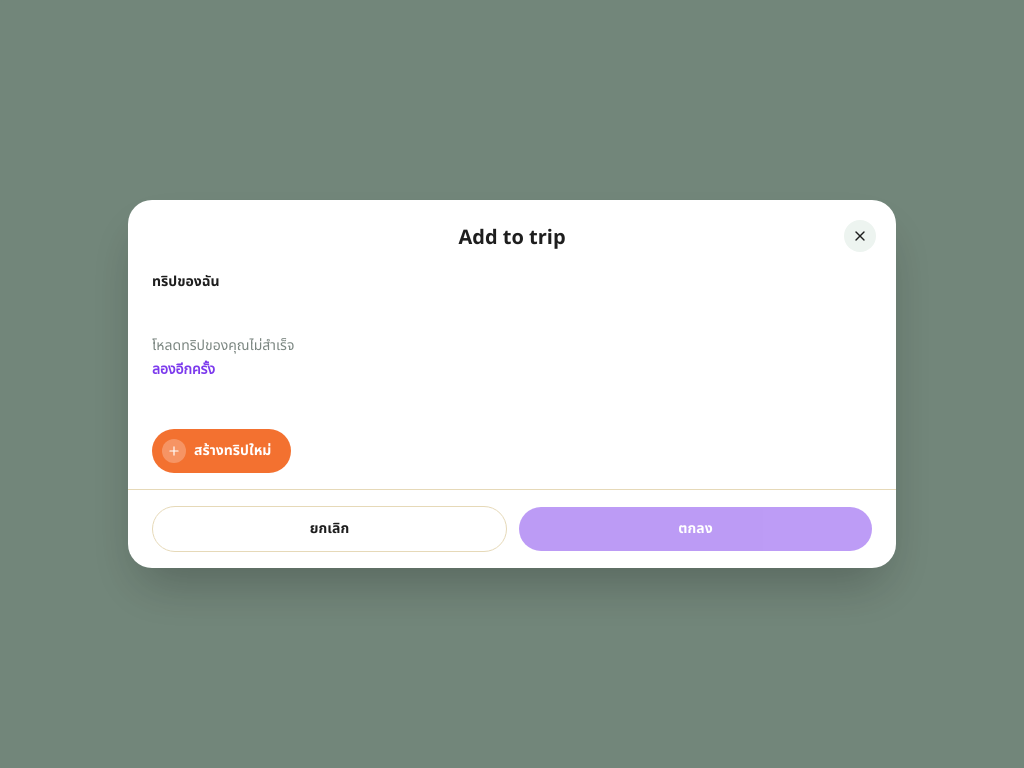
it: AddToTripDialog › offers a retry when My Trips fails to load
Click the button "ลองอีกครั้ง".
click(183, 370)  # box [152,360,215,380]
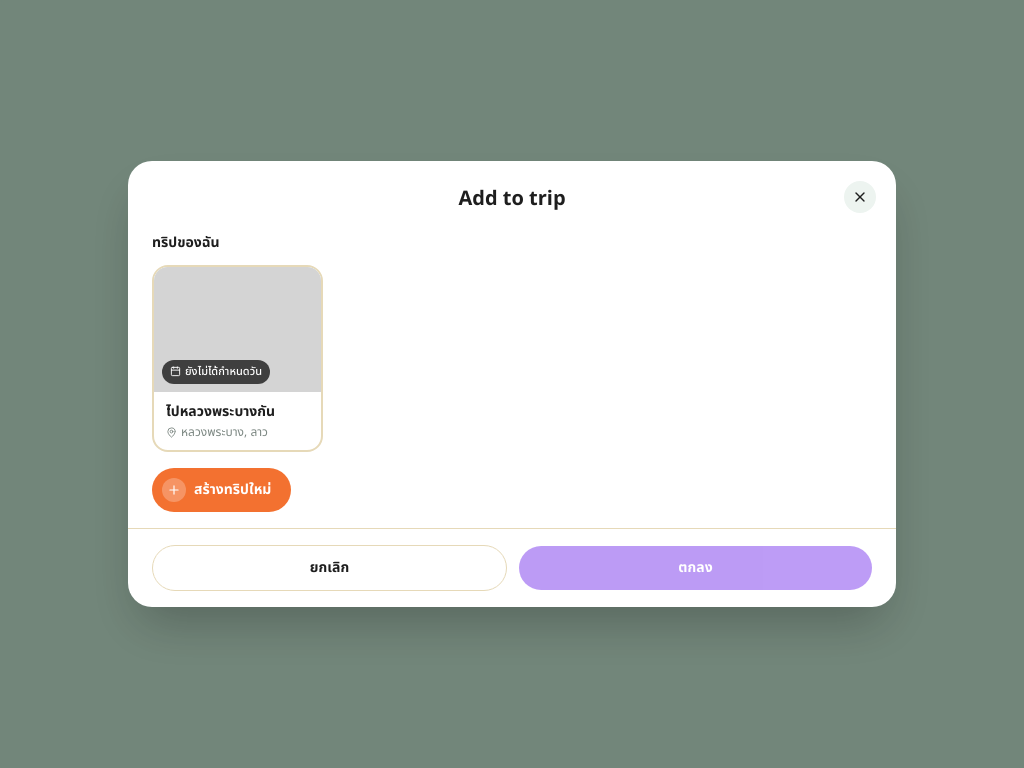
Result: the text "ไปหลวงพระบางกัน" is shown at [166,402,275,422]
